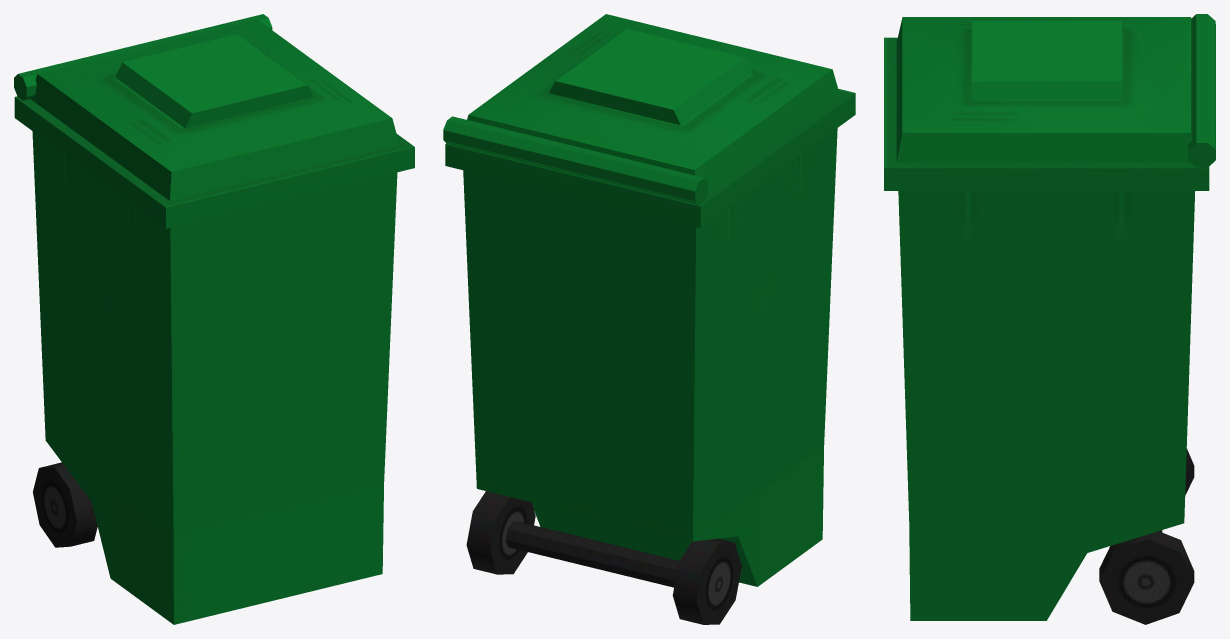
File: LixeiraGari.fbx
3 renders of one model, left to right at view 1: azimuth 30°, elevation 25°; view 2: azimuth 150°, elevation 25°; view 3: azimuth 270°, elevation 25°, orthographic. The views are drawn at different scales.
Parts seen in each view (by area): view 1: LixeiraGari; view 2: LixeiraGari; view 3: LixeiraGari.
Part boxes in pixels (x1,y1,x2,y2): LixeiraGari: (14,14,414,624); LixeiraGari: (443,14,855,624); LixeiraGari: (884,14,1215,624).
Bounding box in the file's own units: 55.02 × 101 × 59.08.
